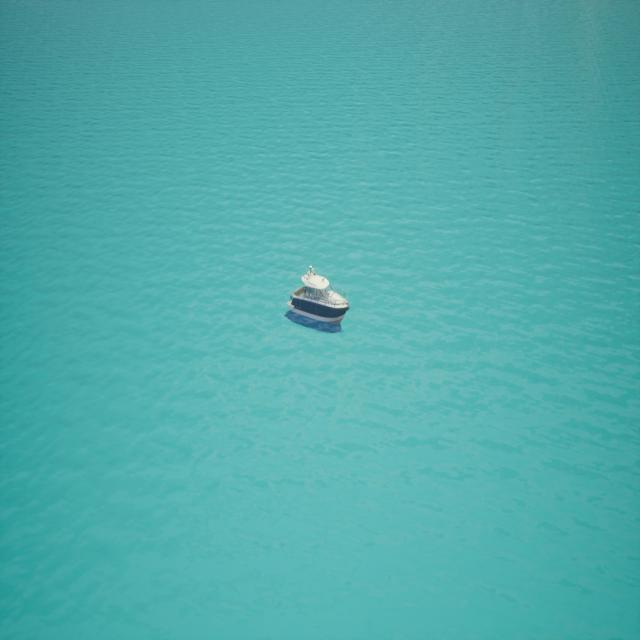ship: (284, 265, 351, 332)
